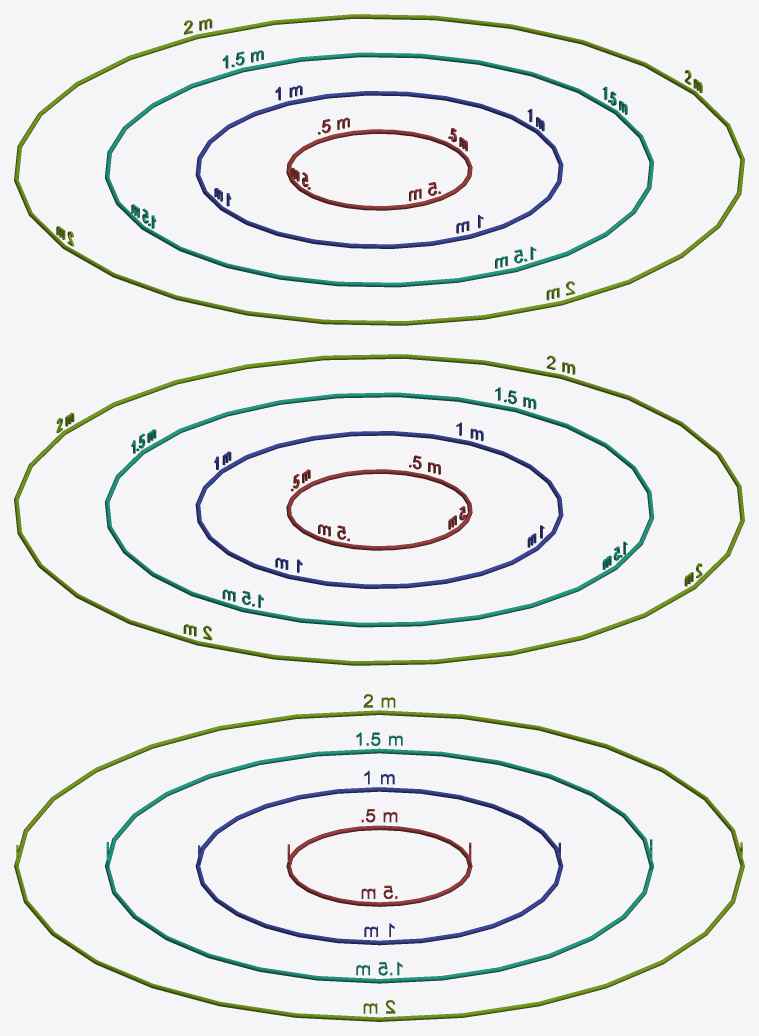
File: MSH_Medidas.FBX
3 views of the same model, one above another, from view 1: azimuth 30°, elevation 25°; view 2: azimuth 150°, elevation 25°; view 3: azimuth 270°, elevation 25° (orthographic).
Parts seen in each view (by area): view 1: MSH_Medidas; view 2: MSH_Medidas; view 3: MSH_Medidas.
Part boxes in pixels (x1,y1,x2,y2): MSH_Medidas: (14, 14, 744, 325); MSH_Medidas: (14, 354, 744, 665); MSH_Medidas: (14, 694, 744, 1021).
Bounding box in the file's own units: 158 × 4.98 × 158.
